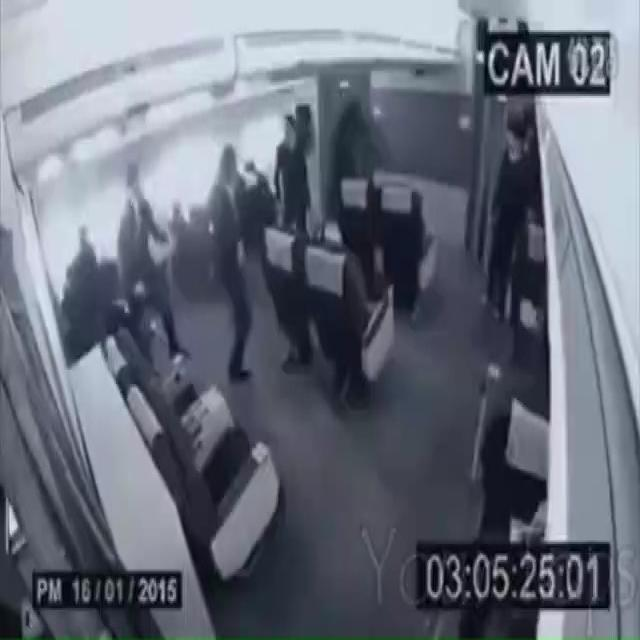fight: (208, 107, 314, 386)
